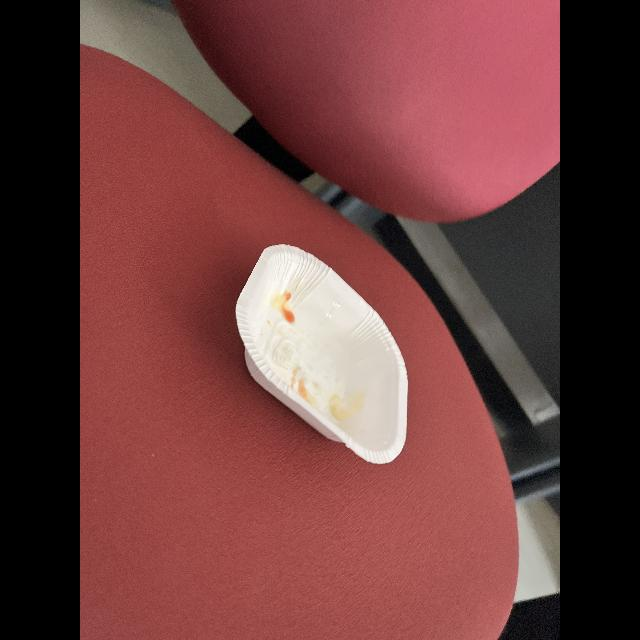cardboard_bowl: (220, 234, 438, 466)
